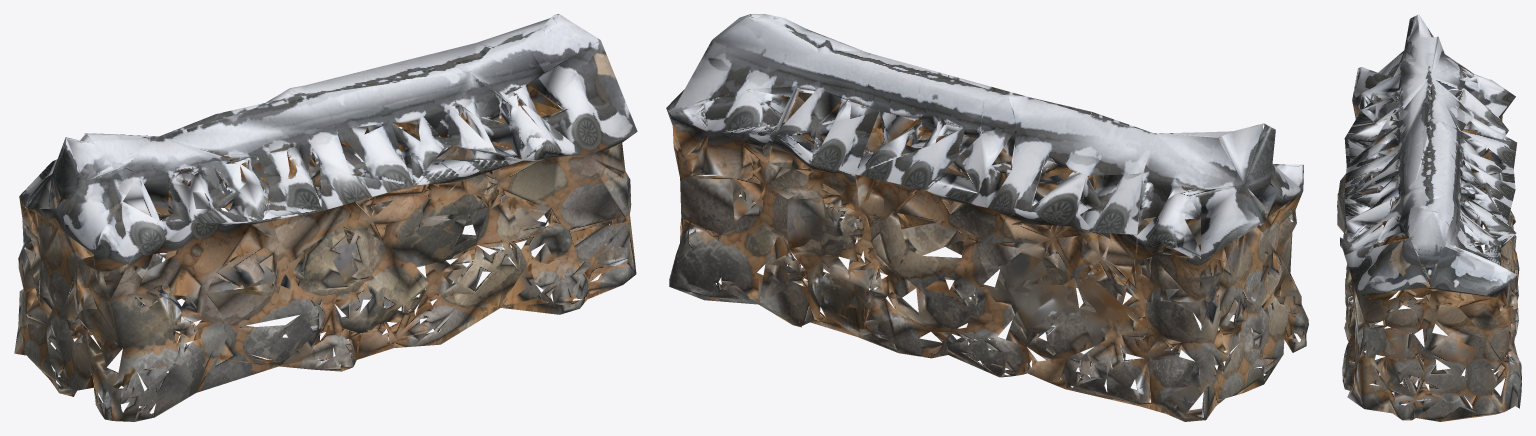
Rendered from PR_Doldam.fbx.
3 views of the same model, side by side, from view 1: azimuth 30°, elevation 25°; view 2: azimuth 150°, elevation 25°; view 3: azimuth 270°, elevation 25° (orthographic). The views are drawn at different scales.
Visible parts, largest first — view 1: texture_mapping; view 2: texture_mapping; view 3: texture_mapping.
Boxes of the visible parts, <box> form: texture_mapping: <box>14,14,637,421</box>; texture_mapping: <box>666,14,1308,421</box>; texture_mapping: <box>1337,14,1521,421</box>.
Size of the model in its own units: 0.9908 by 0.3527 by 0.4288.
1 material, 1 textured.
